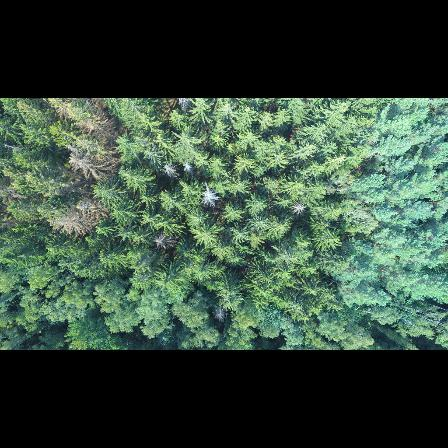Dead: (50, 197, 107, 237), (67, 151, 115, 180), (199, 182, 221, 208), (162, 162, 180, 180), (150, 234, 172, 248), (181, 161, 197, 176), (290, 202, 308, 215)
